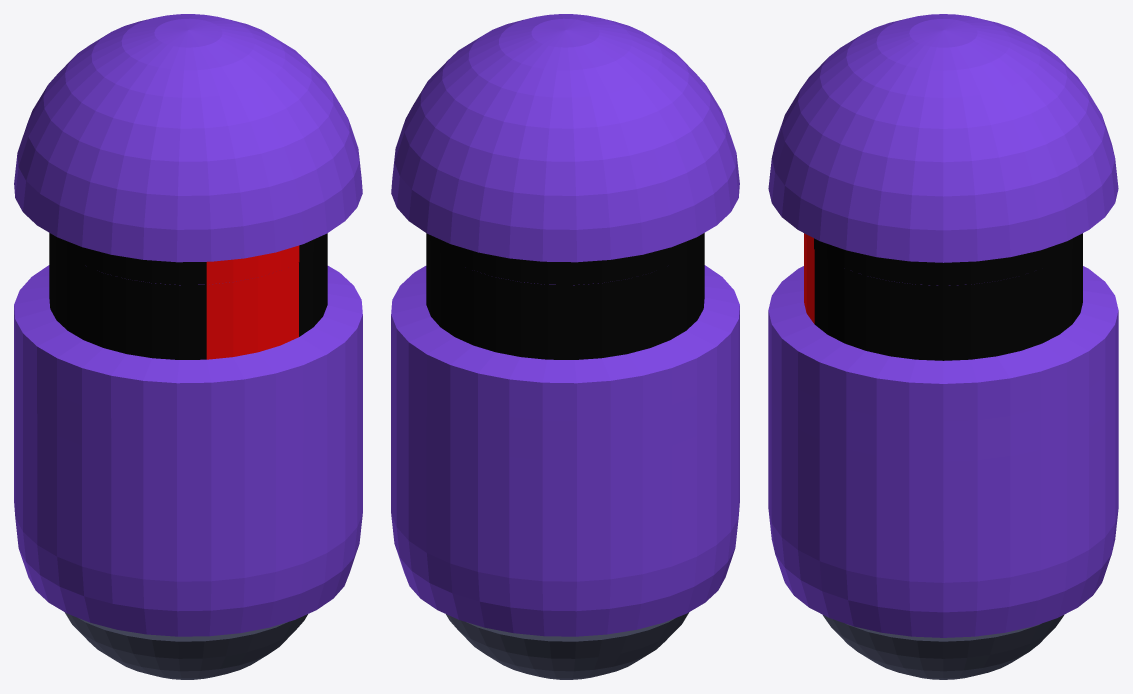
Rendered from StationaryGunner.glb.
The picture shows the model from 3 angles, left to right: view 1: azimuth 30°, elevation 25°; view 2: azimuth 150°, elevation 25°; view 3: azimuth 270°, elevation 25°; orthographic projection.
Parts seen in each view (by area): view 1: StationaryGunner; view 2: StationaryGunner; view 3: StationaryGunner.
Part boxes in pixels (x1,y1,x2,y2): StationaryGunner: (14, 14, 362, 679); StationaryGunner: (391, 14, 739, 679); StationaryGunner: (768, 14, 1118, 679).
Bounding box in the file's own units: 1 × 2.01 × 1.
